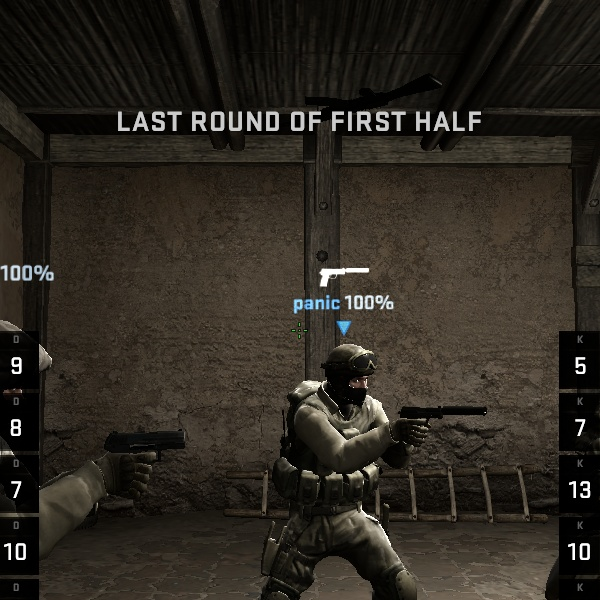ct_body: (252, 339, 436, 598)
ct_head: (311, 340, 384, 414)
